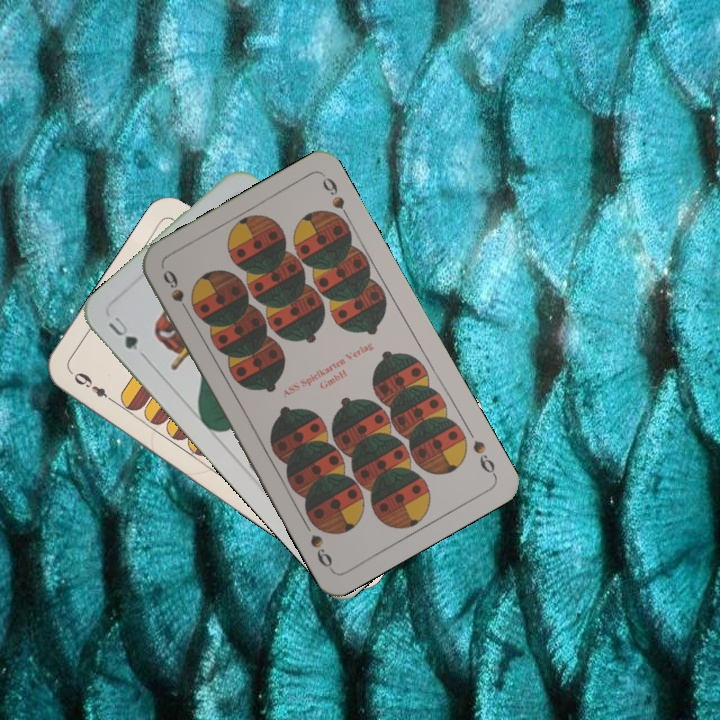E9: (69, 368, 119, 406)
GU: (104, 312, 141, 354)
S9: (158, 265, 194, 319), (468, 436, 499, 479)
